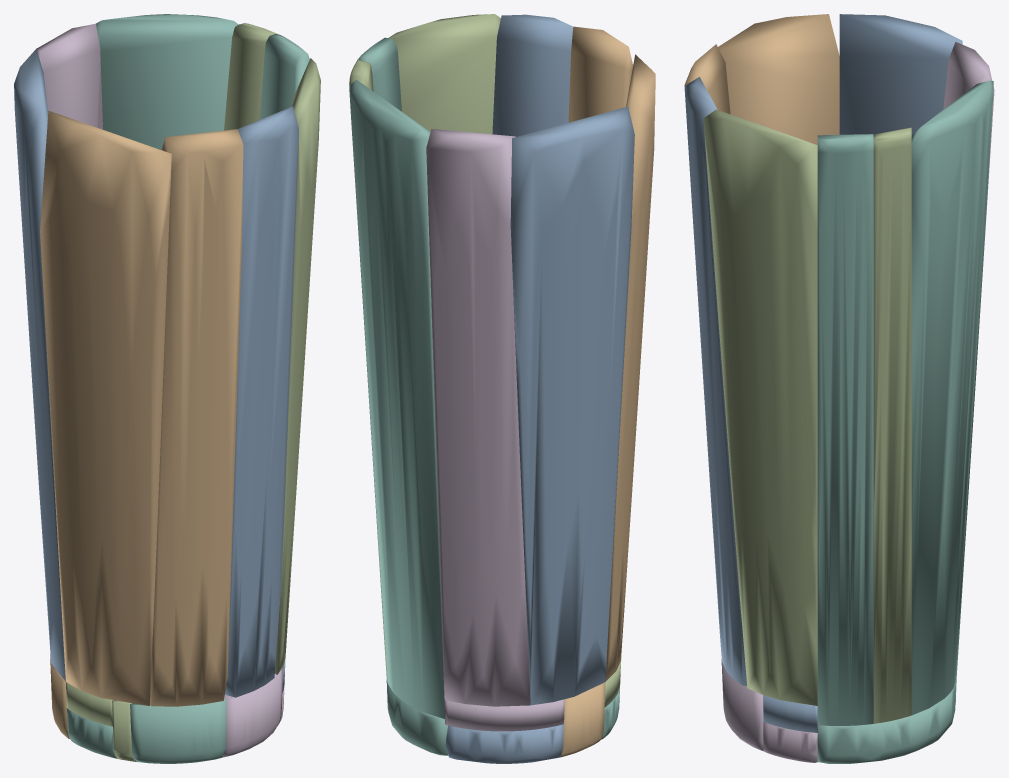
3 views of the same model, side by side, from view 1: azimuth 30°, elevation 25°; view 2: azimuth 150°, elevation 25°; view 3: azimuth 270°, elevation 25° (orthographic).
Bounding box in the file's own units: 0.8097 × 1.86 × 0.812.
